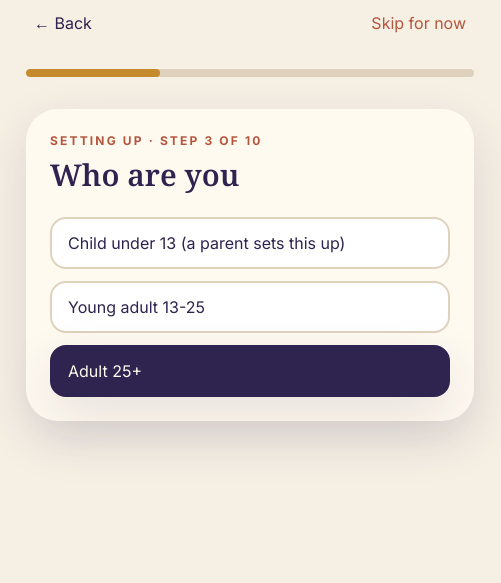
it: onboarding › clears an invalid saved goal and explains that it needs revisiting
Click the button "Child under 13 (a parent sets this up)" at (250, 243), box [50,217,450,269]
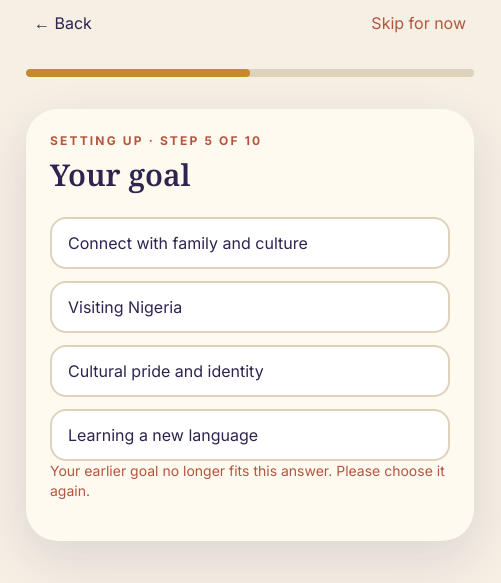
Check: the message reads "Your earlier goal no longer fits this answer. Please choose it again.", box [50,462,445,499]
